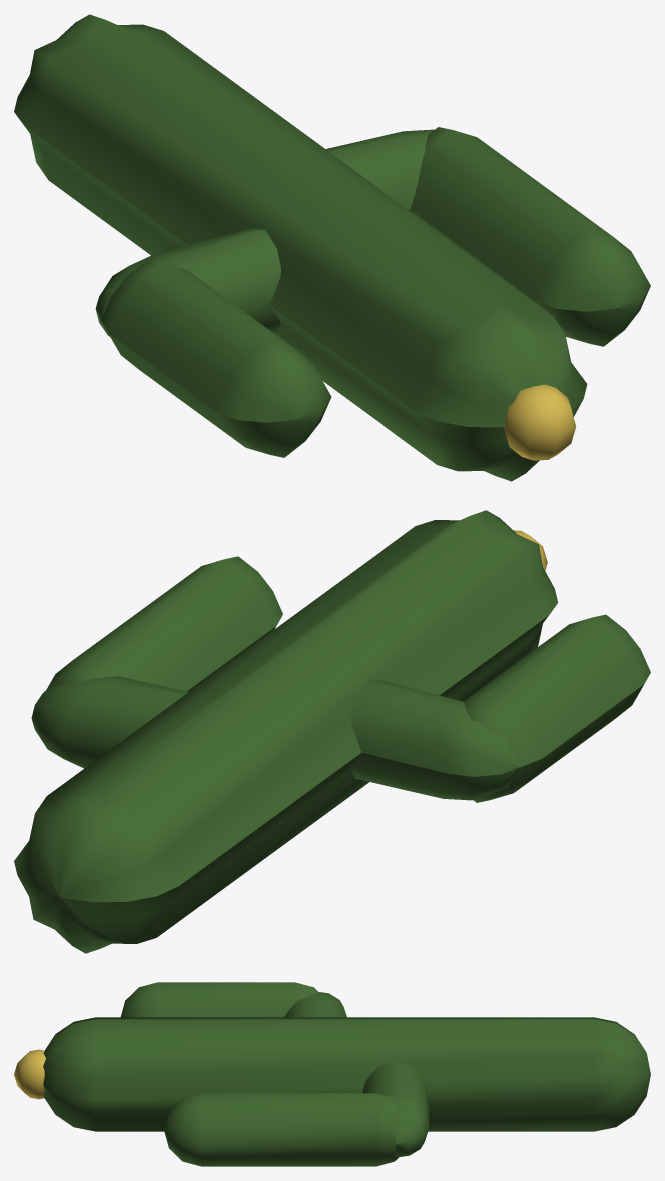
File: cactus.glb
3 views of the same model, one above another, from view 1: azimuth 30°, elevation 25°; view 2: azimuth 150°, elevation 25°; view 3: azimuth 270°, elevation 25° (orthographic). The views are drawn at different scales.
Parts seen in each view (by area): view 1: CactusMesh; view 2: CactusMesh; view 3: CactusMesh.
Part boxes in pixels (<box>): CactusMesh: <box>14,14,650,481</box>; CactusMesh: <box>14,510,650,953</box>; CactusMesh: <box>14,982,650,1166</box>.
Bounding box in the file's own units: 0.5388 × 0.1906 × 1.
